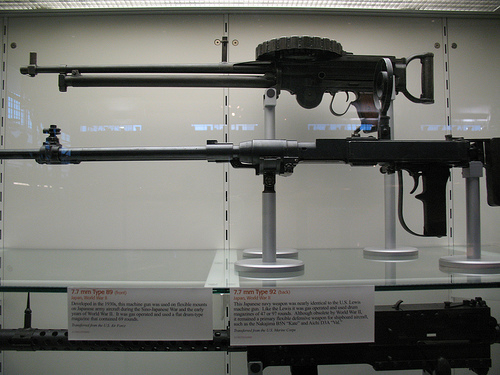rifle: (1, 34, 495, 114), (3, 126, 496, 192)
